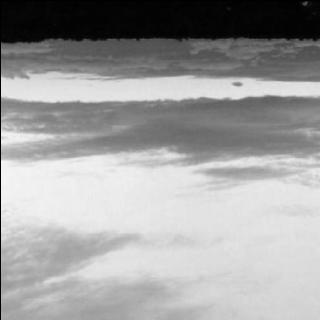Stratocumulus: (0, 46, 320, 320)
